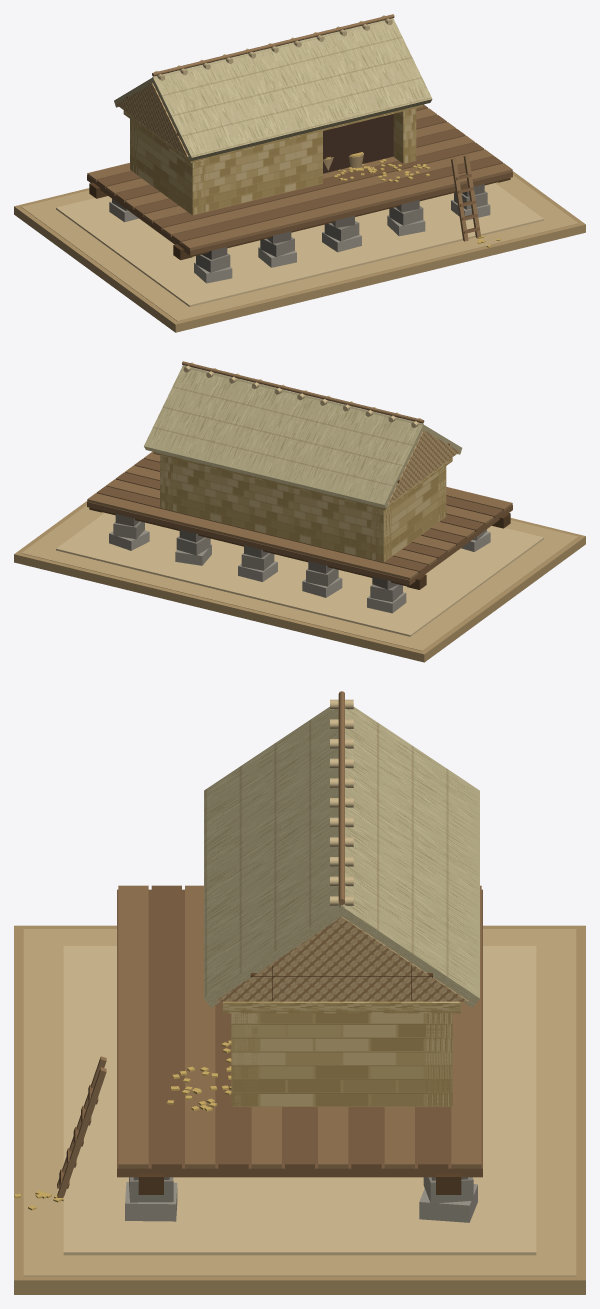
Rendered from civic-neolithic-granary-built.glb.
3 renders of one model, top to bottom at view 1: azimuth 30°, elevation 25°; view 2: azimuth 150°, elevation 25°; view 3: azimuth 270°, elevation 25°, orthographic. The views are drawn at different scales.
Size of the model in its own units: 22 by 8.96 by 15.
21 materials, 8 textured.
